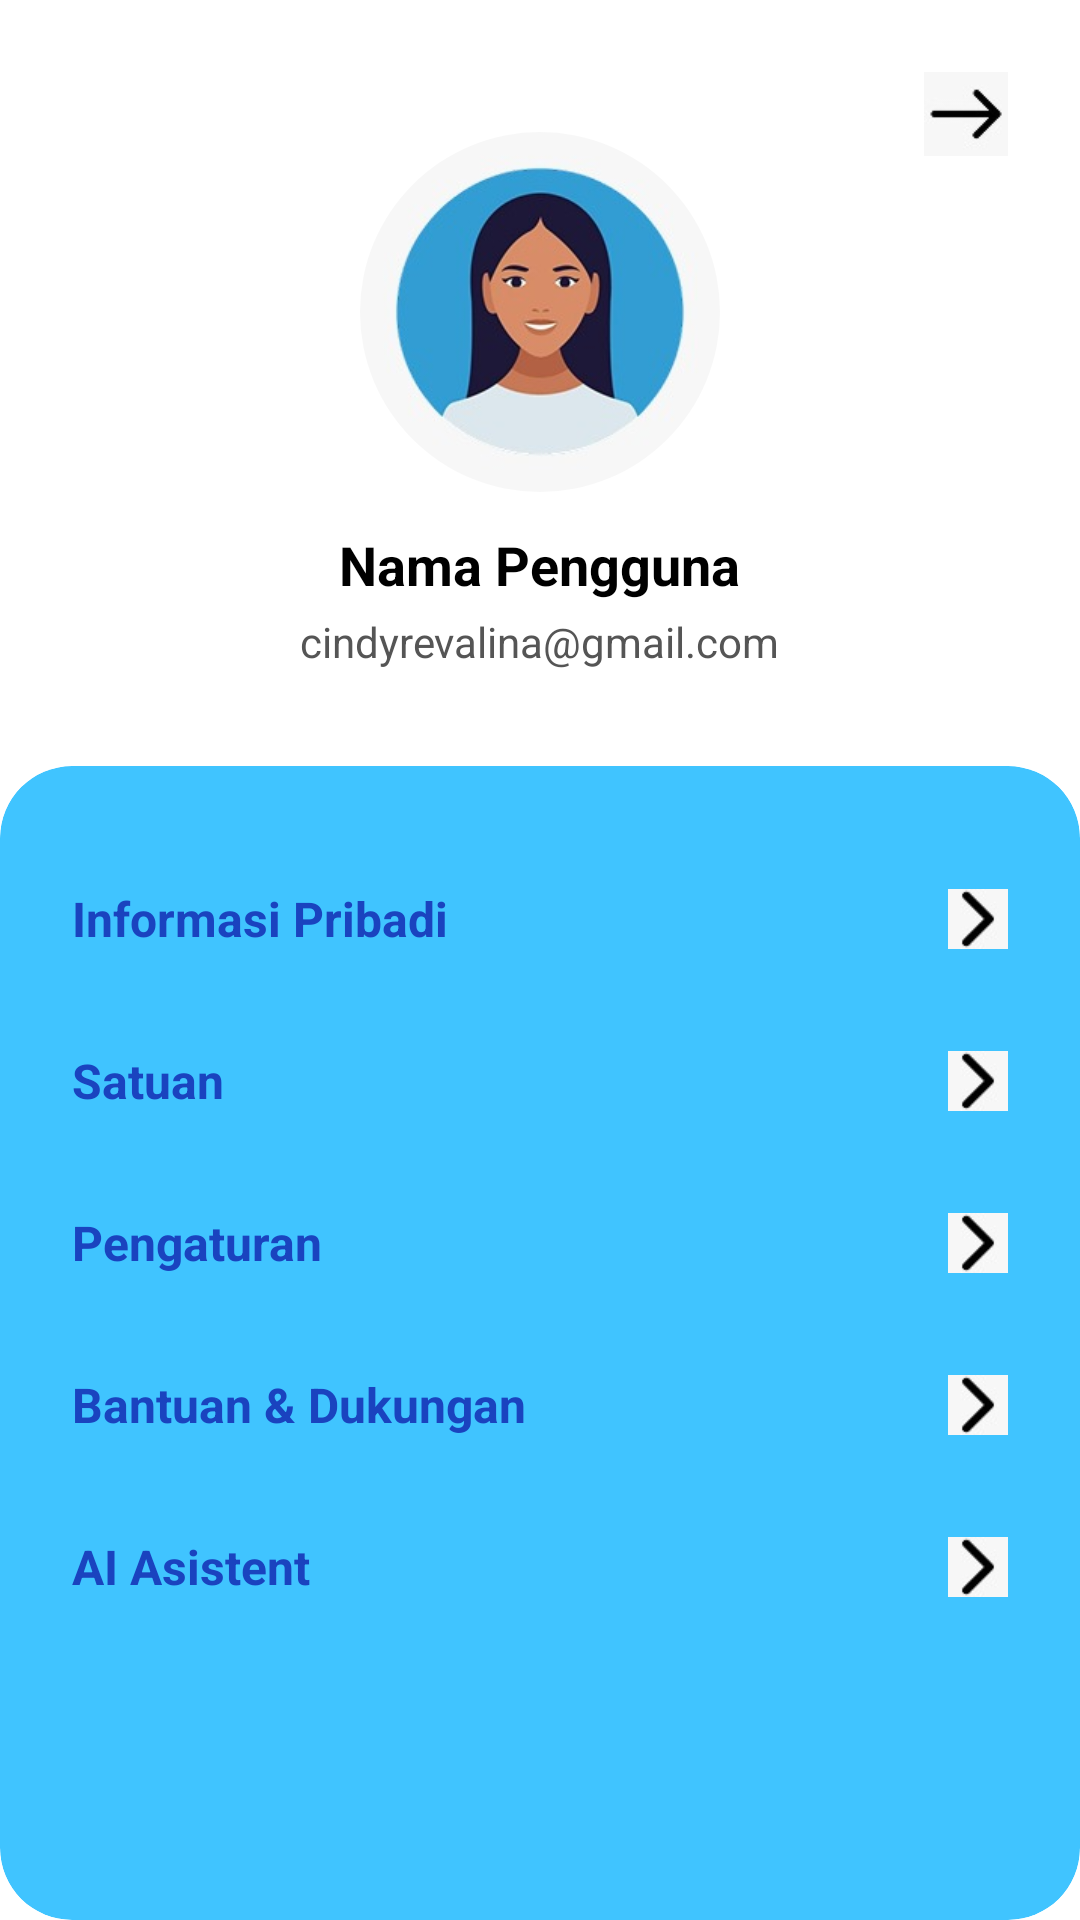

Icons on this 1080w x 1920h Android screen, each with its box as (left=x1, top=y1, right=x2, bottom=y2):
foto profil: (left=395, top=167, right=685, bottom=454)
panah kanan: (left=930, top=89, right=1002, bottom=140)
panah pendek: (left=948, top=889, right=1008, bottom=949), (left=948, top=1051, right=1008, bottom=1111), (left=948, top=1213, right=1008, bottom=1273), (left=948, top=1375, right=1008, bottom=1435), (left=948, top=1537, right=1008, bottom=1597)
